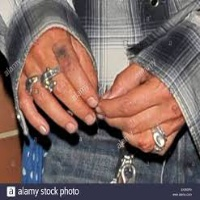ring: (22, 69, 76, 132), (119, 119, 186, 152)
